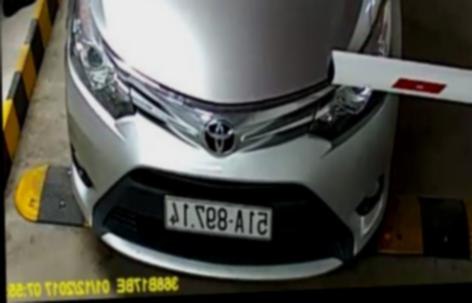License_Plate: (164, 195, 279, 243)
